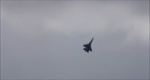maybay_muctieu: (83, 35, 95, 55)
